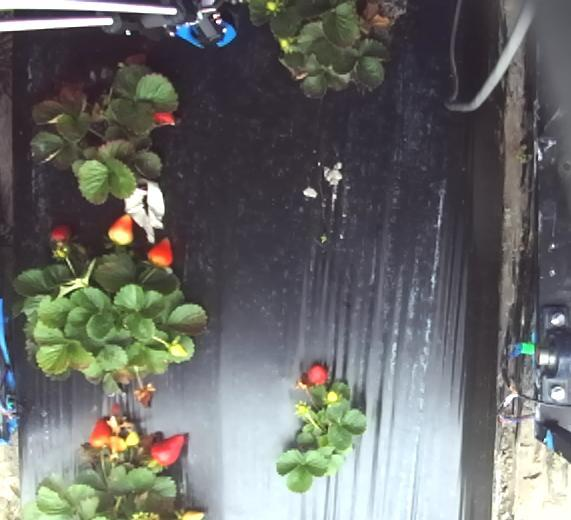mature: (148, 432, 186, 468), (145, 235, 174, 269), (87, 417, 116, 451), (110, 213, 134, 247), (301, 362, 328, 386), (51, 223, 71, 247), (154, 109, 175, 128)
